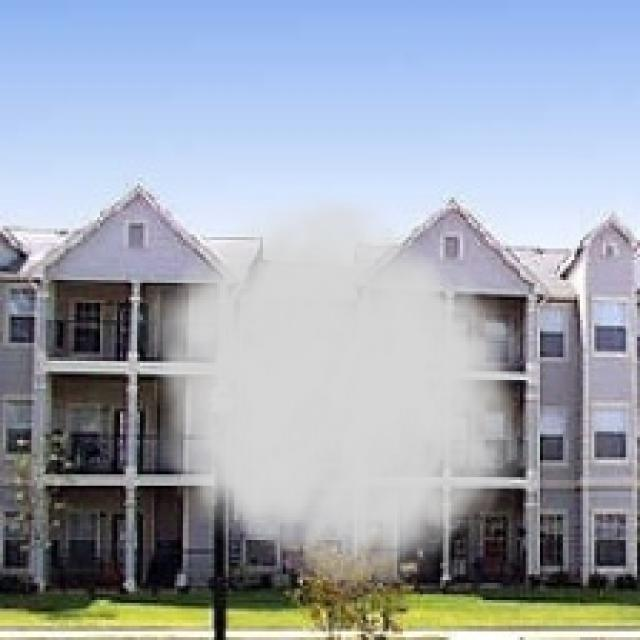Smoke: (132, 180, 532, 606)
